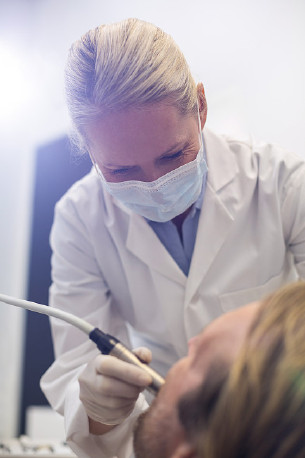face_mask: (99, 94, 201, 223)
